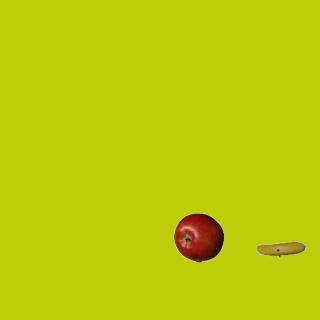Apple Braeburn: (173, 212, 223, 262)
Banana: (255, 224, 305, 274)
